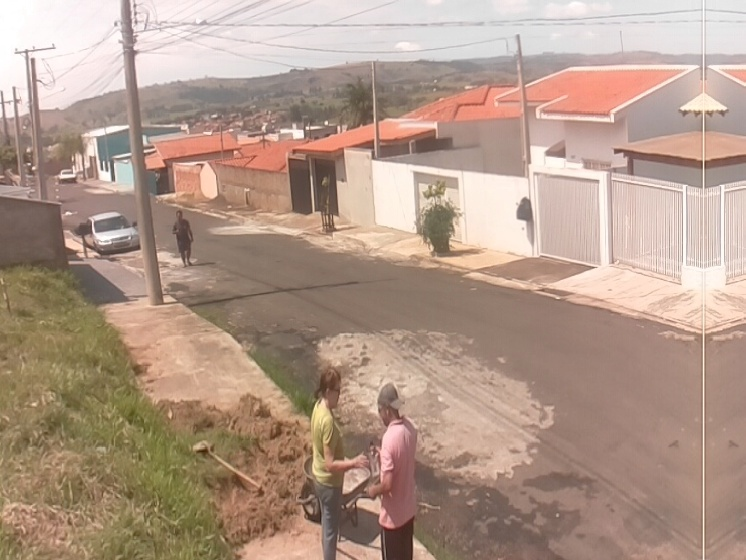person: (310, 366, 368, 560), (366, 381, 420, 560), (171, 209, 194, 270)
